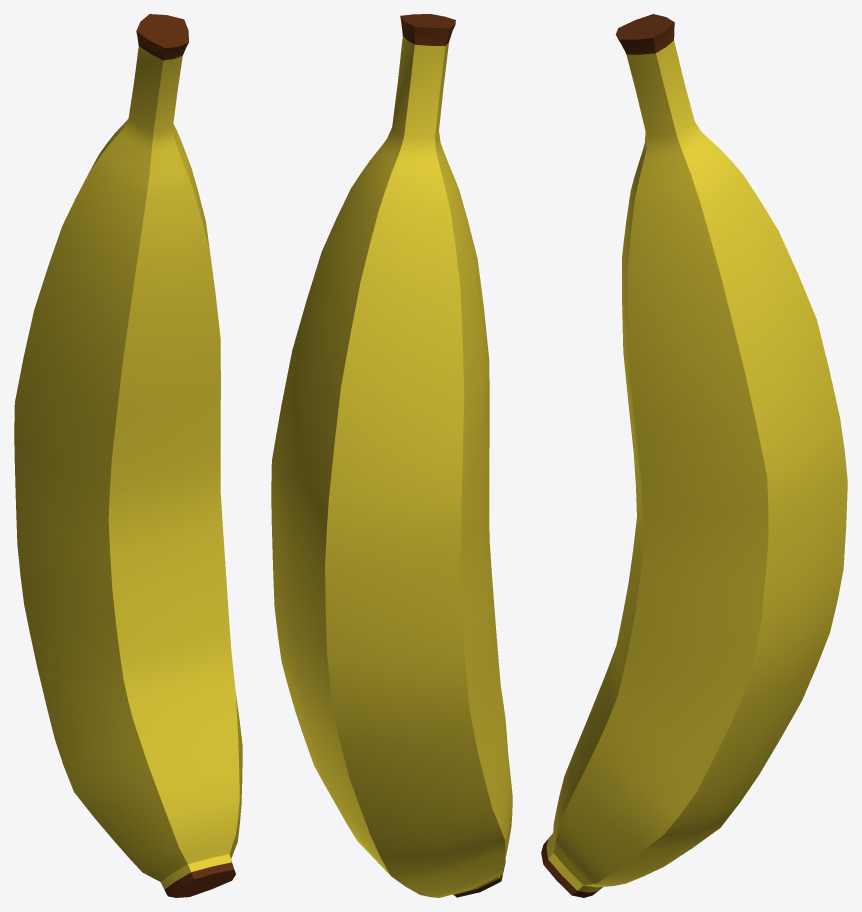
The model's file is Banana.fbx.
The picture shows the model from 3 angles, left to right: view 1: azimuth 30°, elevation 25°; view 2: azimuth 150°, elevation 25°; view 3: azimuth 270°, elevation 25°; orthographic projection. The views are drawn at different scales.
Parts seen in each view (by area): view 1: Cylinder; view 2: Cylinder; view 3: Cylinder.
Part boxes in pixels (x1,y1,x2,y2): Cylinder: (14,14,242,897); Cylinder: (271,14,512,897); Cylinder: (541,14,847,897).
Bounding box in the file's own units: 165 × 749 × 238.
